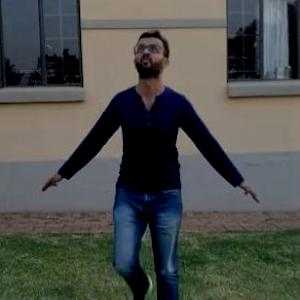land: (38, 18, 288, 297)
